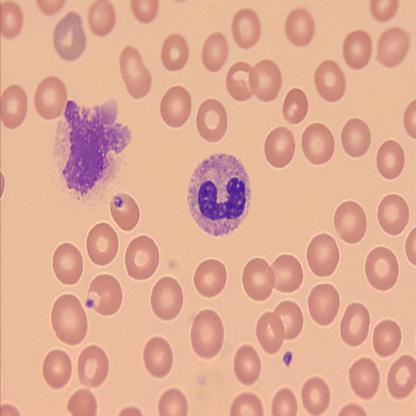Band Neutrophil: (186, 151, 252, 237)
